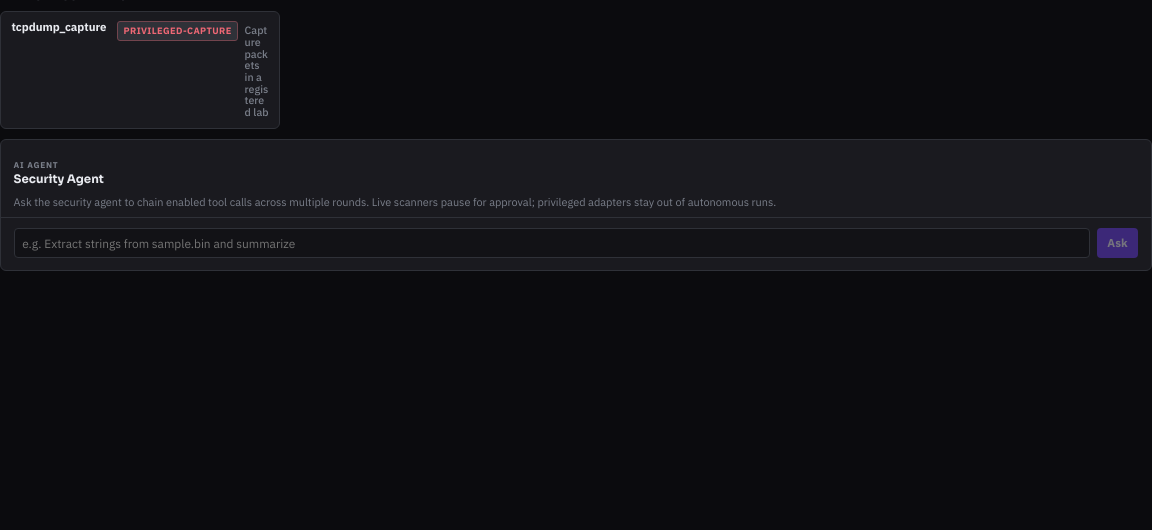
Test: Security Lab capability gating › shows a bounded capture result as a downloadable PCAP
This screenshot has width=1152, height=530.
Click the text "tcpdump_capture". click: [59, 27]
box: 12,21 -> 106,34
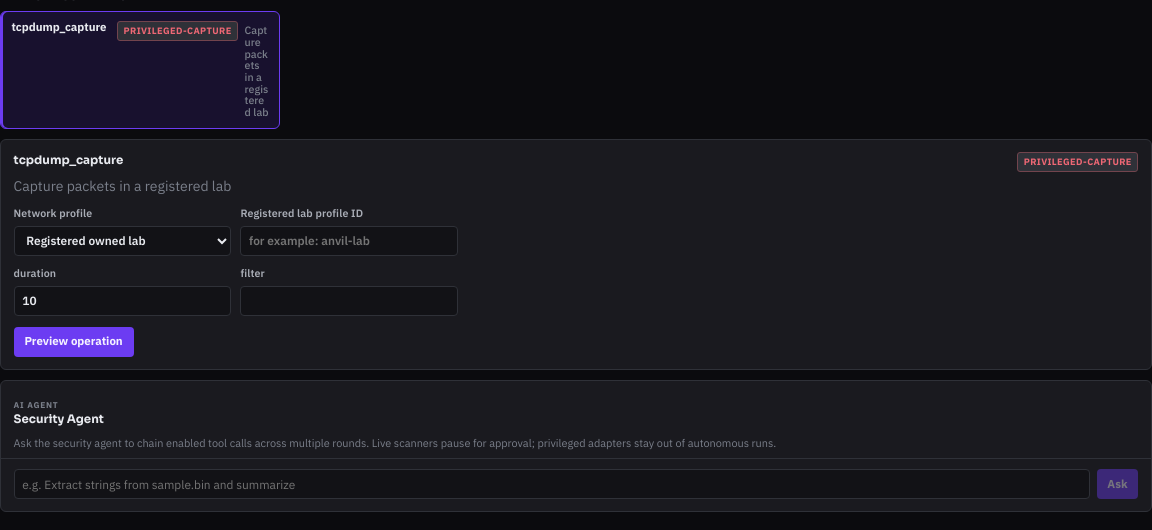
Type "anvil-lab" into the field with placeholder "for example: anvil-lab". click: [349, 241]
box: 240,226 -> 458,256
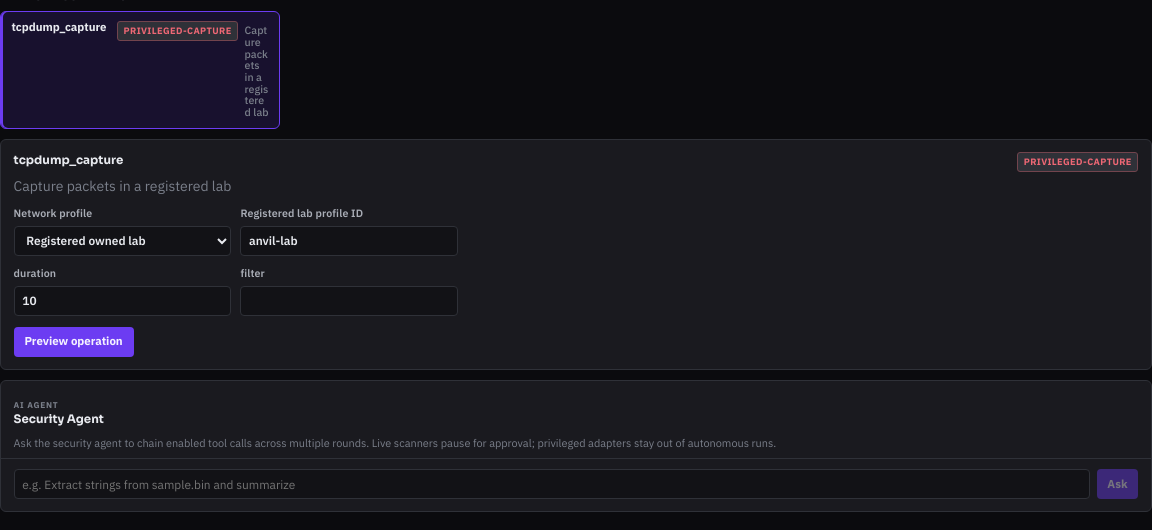
Click the button "Preview operation". click: [74, 342]
box: 14,327 -> 134,357
(page scrolled)
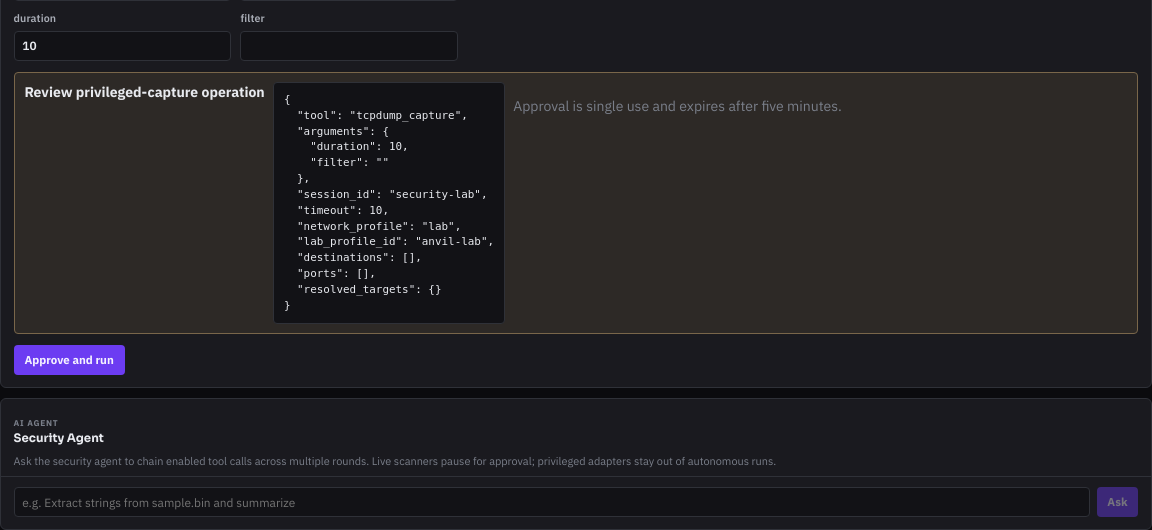
Click the button "Approve and run". click: [69, 360]
box: 14,345 -> 124,375
(page scrolled)
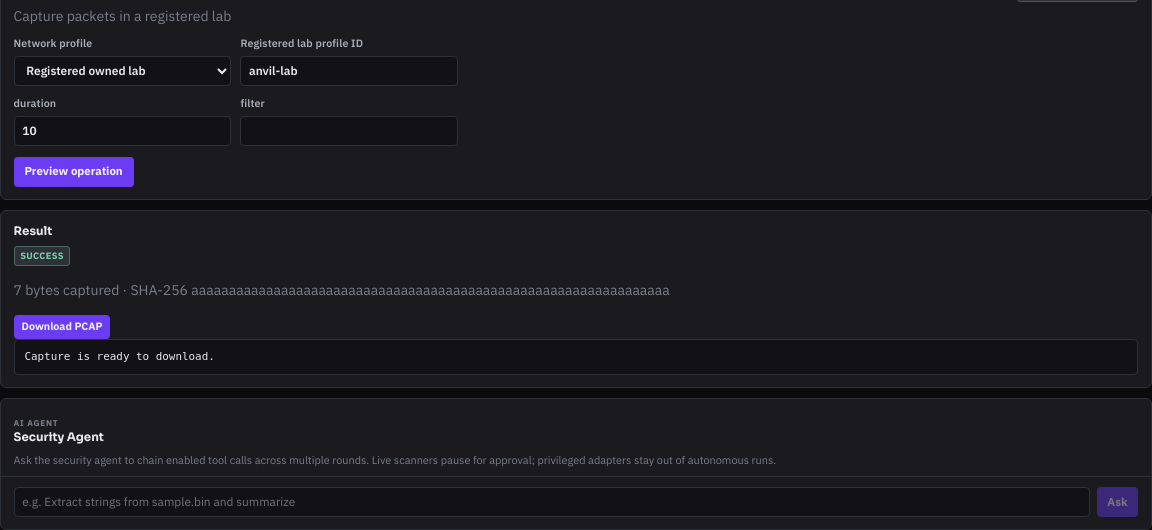
expect the text "7 bytes captured" is shown: met, box 14,281 -> 670,299
expect the button "Download PCAP" is shown: met, box 14,315 -> 110,339
